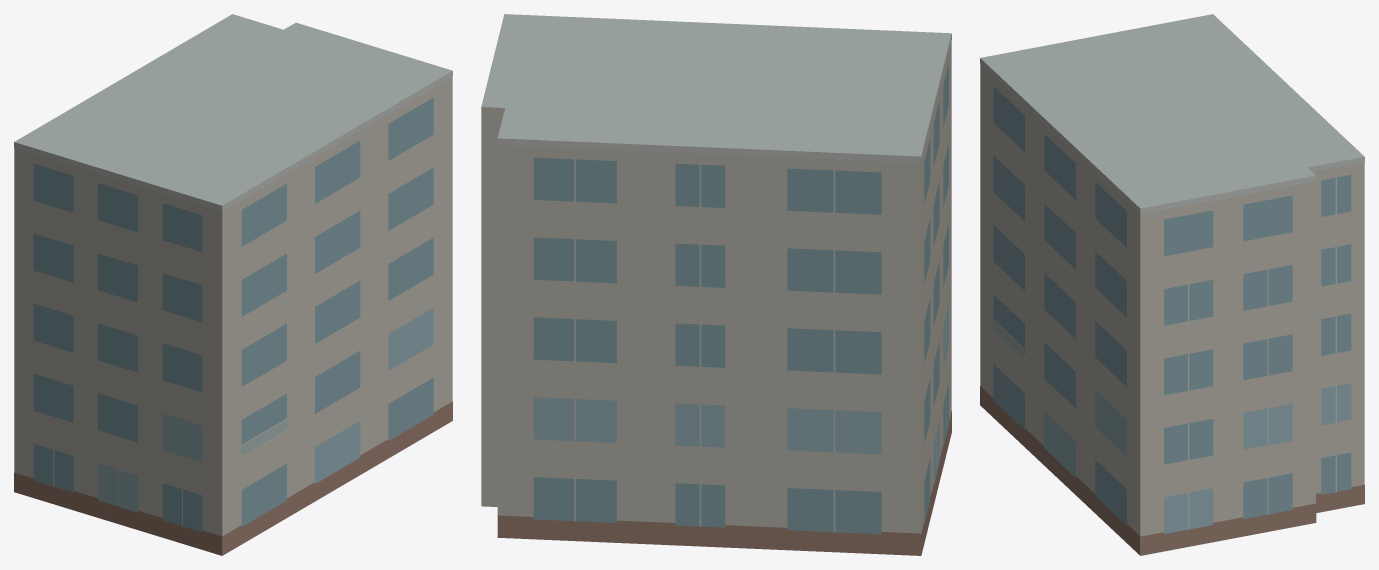
File: survey-upis-32612203.glb
3 renders of one model, left to right at view 1: azimuth 30°, elevation 25°; view 2: azimuth 150°, elevation 25°; view 3: azimuth 270°, elevation 25°, orthographic. The views are drawn at different scales.
Parts seen in each view (by area): view 1: survey-upis-32612203.tmp; view 2: survey-upis-32612203.tmp; view 3: survey-upis-32612203.tmp.
Part boxes in pixels (x1,y1,x2,y2): survey-upis-32612203.tmp: (14,14,452,555); survey-upis-32612203.tmp: (481,14,951,555); survey-upis-32612203.tmp: (980,14,1364,555).
Size of the model in its own units: 17.68 by 14.7 by 14.77.
